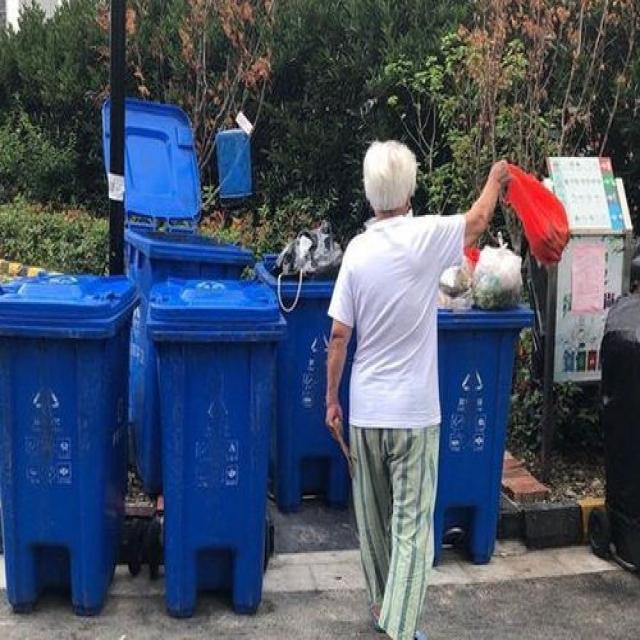garbage_bin: (0, 273, 140, 616), (148, 275, 280, 614), (124, 218, 255, 494)
overflow: (435, 232, 534, 562), (254, 220, 350, 510)
